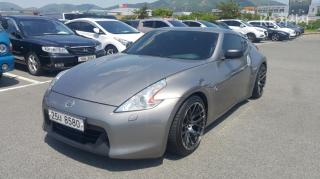0: (76, 119, 82, 128)
2: (51, 111, 55, 120)
5: (68, 116, 72, 126), (55, 112, 58, 121)
8: (64, 115, 68, 124), (72, 118, 76, 127)
너: (57, 114, 63, 121)
